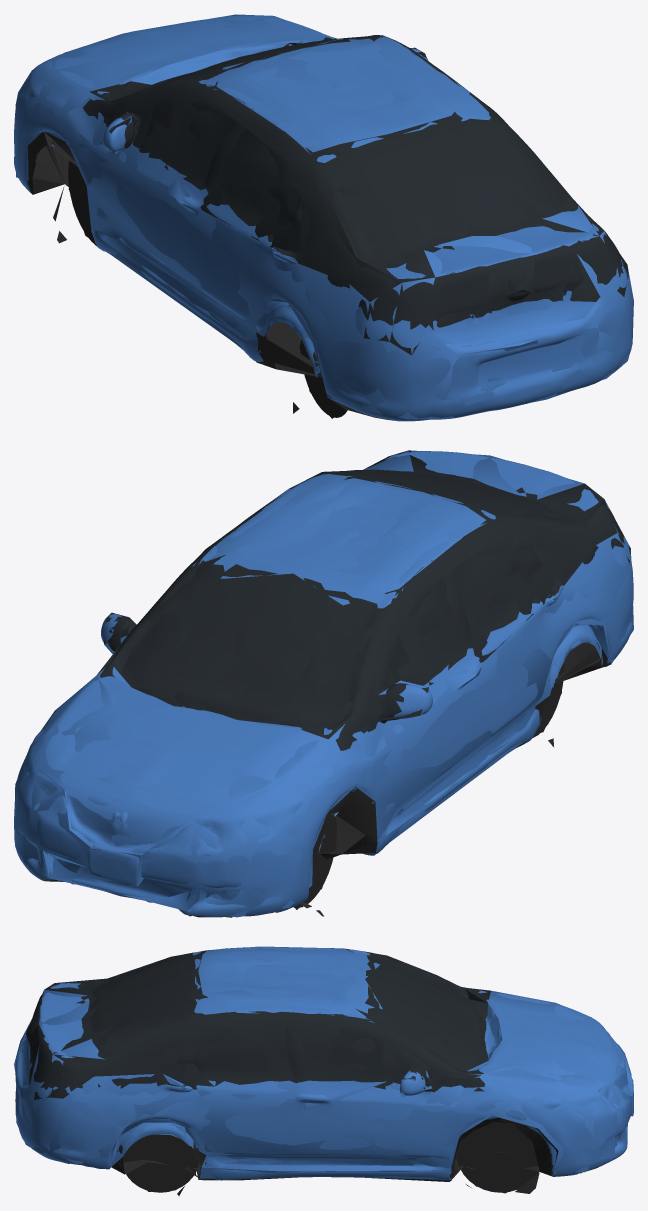
File: acura-tsx.glb
3 views of the same model, one above another, from view 1: azimuth 30°, elevation 25°; view 2: azimuth 150°, elevation 25°; view 3: azimuth 270°, elevation 25° (orthographic). The views are drawn at different scales.
Visible parts, largest first — view 1: body, far; view 2: body, far; view 3: body, far.
Boxes of the visible parts, x1,y1,x2,y2 form: body: (14, 15, 632, 421); far: (15, 14, 633, 419); body: (14, 451, 633, 917); far: (14, 450, 633, 917); body: (15, 947, 633, 1195); far: (14, 946, 633, 1193).
Size of the model in its own units: 2.19 by 1.57 by 4.88.
